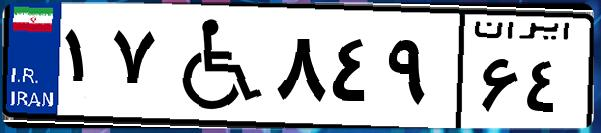1: (57, 26, 110, 100)
4: (330, 28, 385, 110), (525, 38, 570, 115)
6: (475, 38, 525, 113)
7: (110, 28, 158, 98)
8: (270, 28, 330, 110)
9: (385, 28, 445, 110)
ژ (معلولین و جانبازان): (158, 12, 270, 120)
